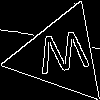W: (35, 30, 93, 83)
